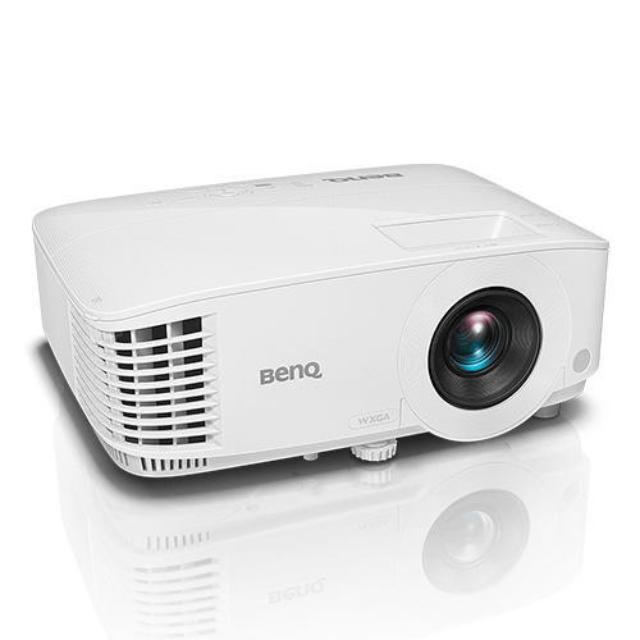Projector: (23, 156, 619, 494)
